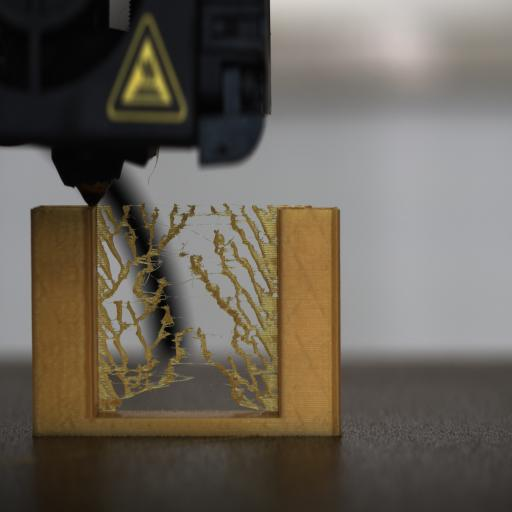stringing: (95, 203, 279, 413)
